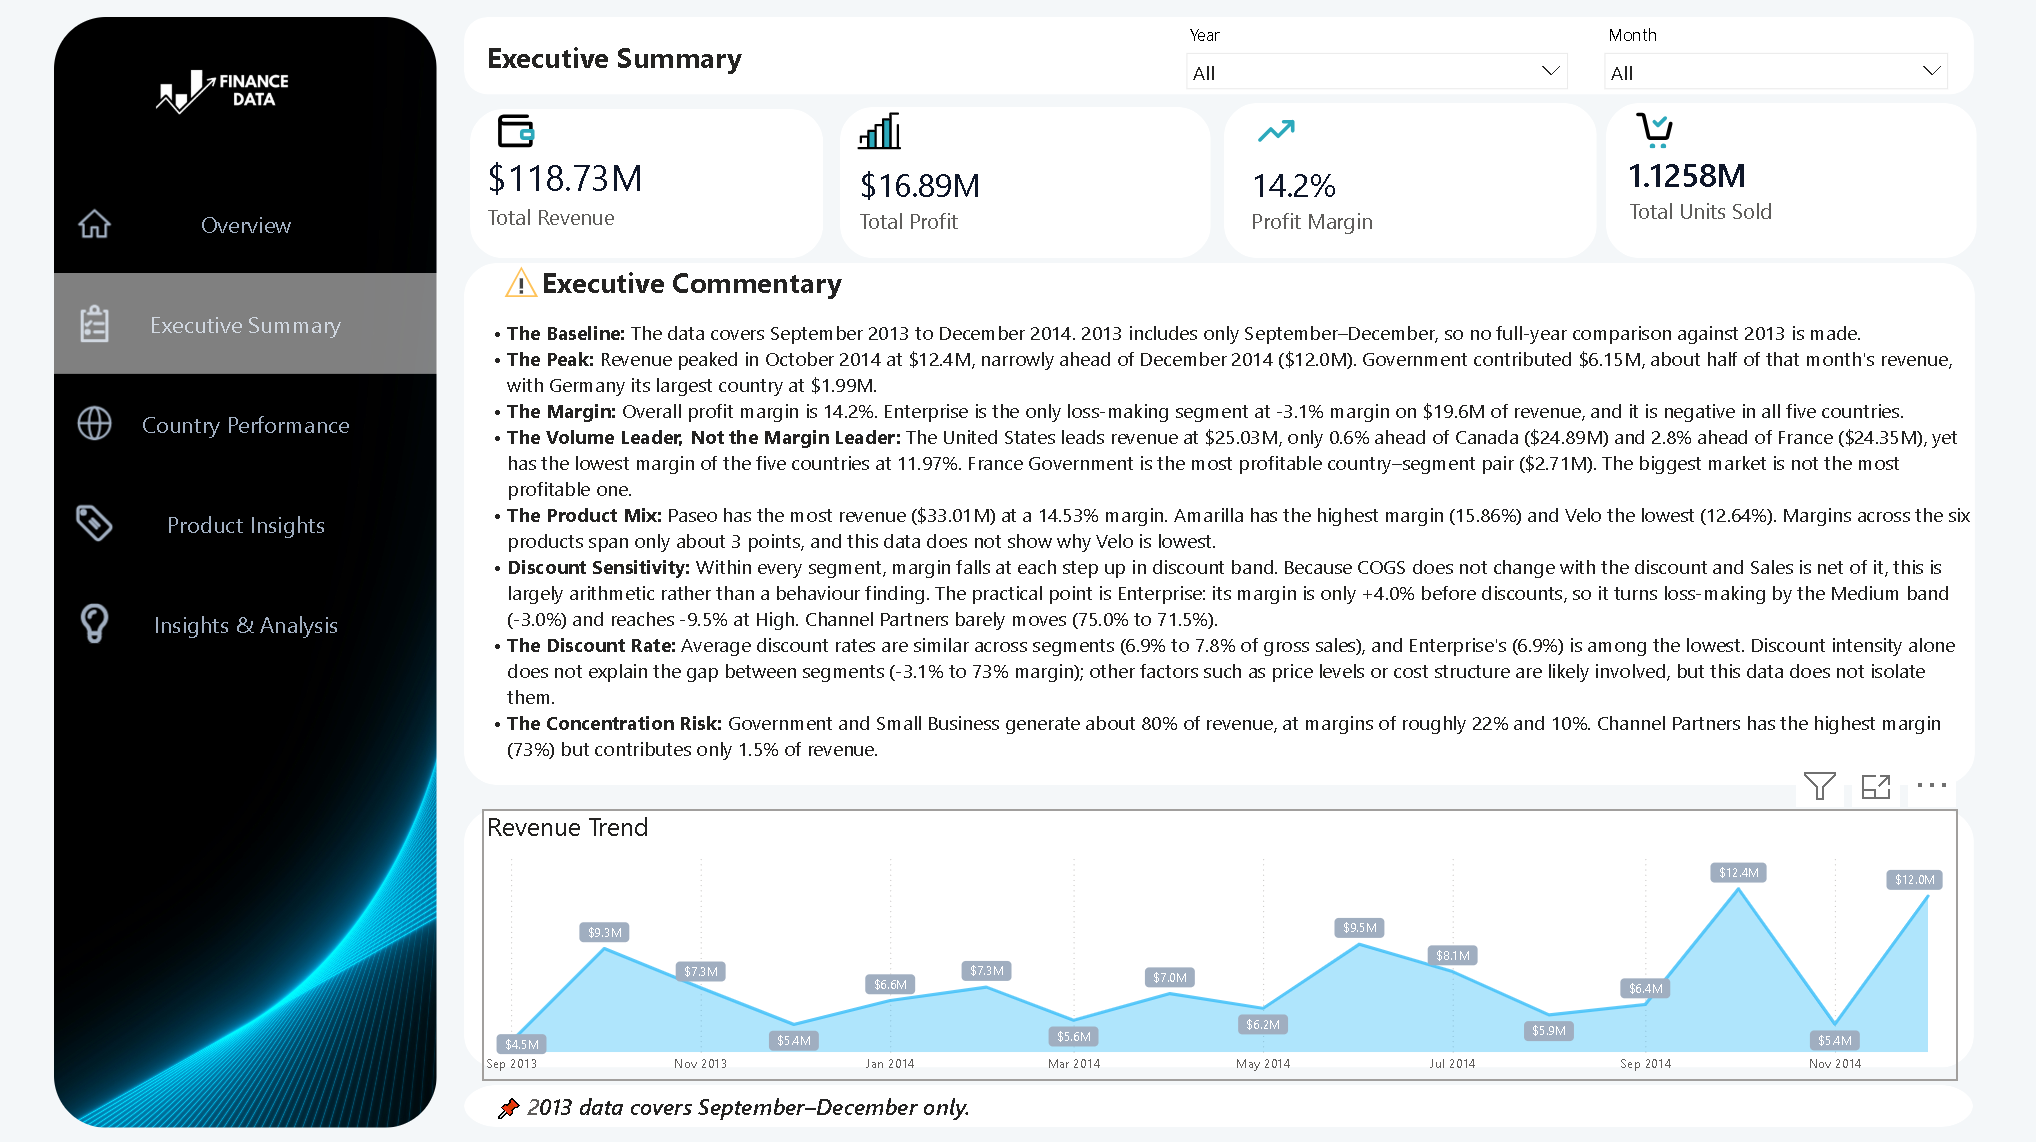

Layout of this report page (visuals, bound fields, positions):
{"tool":"powerbi","page":{"name":"Executive Summary","canvas":[1970,1150],"ordinal":1},"visuals":[{"type":"image","box":[52,18,368,1068],"z":0},{"type":"actionButton","box":[51.6,263.9,369,97],"z":1000},{"type":"actionButton","box":[52,359.1,369,97.2],"z":2000},{"type":"actionButton","box":[52,456,369,97],"z":3000},{"type":"image","box":[0,17.5,420,149.8],"z":4000},{"type":"shape","box":[446.4,17,1451.8,74.4],"z":5000},{"type":"textbox","box":[463.4,31.9,461.3,59.5],"z":6000},{"type":"shape","box":[1177.4,100,358.5,149.1],"z":7000},{"type":"shape","box":[452.8,105.7,339.6,143.4],"z":8000},{"type":"shape","box":[807.5,103.8,356.6,145.3],"z":9000},{"type":"image","box":[1194,106,66,42],"z":10000},{"type":"cardVisual","fields":{"Data":["Basemeasure.Profit Margin"]},"box":[1194,148,326,116],"z":11000},{"type":"cardVisual","fields":{"Data":["Basemeasure.Total Profit"]},"box":[818,148,326,116],"z":12000},{"type":"image","box":[812,106,68,42],"z":13000},{"type":"shape","box":[1543.4,100,356.6,149.1],"z":14000},{"type":"image","box":[1558,106,66,42],"z":15000},{"type":"cardVisual","fields":{"Data":["Basemeasure.Total Units Sold"]},"box":[1558,138,326,112],"z":16000},{"type":"image","box":[464,106,66,42],"z":17000},{"type":"cardVisual","fields":{"Data":["Basemeasure.Total Revenue"]},"box":[460,138,326,126],"z":18000},{"type":"slicer","fields":{"Values":["financials.Year"]},"box":[1130.9,17,386.9,74.4],"z":19000},{"type":"slicer","fields":{"Values":["financials.Month Name"]},"box":[1532.6,17,350.7,74.4],"z":20000},{"type":"shape","box":[445.3,254.7,1452.8,501.9],"z":21000},{"type":"textbox","box":[460.4,254.7,1439.6,522.6],"z":22000},{"type":"actionButton","box":[52.5,167.3,369,97.3],"z":23000},{"type":"shape","box":[446.4,1043.7,1451,40.4],"z":24000},{"type":"textbox","box":[468,1044,1414,40],"z":25000},{"type":"image","box":[473.6,254.7,56.6,35.8],"z":26000},{"type":"shape","box":[446.4,778,1451.8,248.7],"z":27000},{"type":"actionButton","box":[52,552,369.7,97.3],"z":28000},{"type":"areaChart","title":"Revenue Trend","fields":{"Category":["financials.Date.Variation.Date Hierarchy.Year"],"Y":["Basemeasure.Total Revenue"]},"box":[463.1,778.3,1420.5,262.7],"z":29000},{"type":"shape","title":"Executive_Summary_Active_Indicator","box":[52,263.6,369,97],"z":30000}]}

Visuals, with their boxes on the page's 1970x1150 design canvas (x1, y1, x2, y2). These are canvas units, not pixel positions in the 2036x1142 screenshot, which may show the page scaled, cropped or inside an application window:
image: locate(52, 18, 420, 1086)
actionButton: locate(52, 264, 421, 361)
actionButton: locate(52, 359, 421, 456)
actionButton: locate(52, 456, 421, 553)
image: locate(0, 18, 420, 167)
shape: locate(446, 17, 1898, 91)
textbox: locate(463, 32, 925, 91)
shape: locate(1177, 100, 1536, 249)
shape: locate(453, 106, 792, 249)
shape: locate(808, 104, 1164, 249)
image: locate(1194, 106, 1260, 148)
cardVisual - Basemeasure.Profit Margin: locate(1194, 148, 1520, 264)
cardVisual - Basemeasure.Total Profit: locate(818, 148, 1144, 264)
image: locate(812, 106, 880, 148)
shape: locate(1543, 100, 1900, 249)
image: locate(1558, 106, 1624, 148)
cardVisual - Basemeasure.Total Units Sold: locate(1558, 138, 1884, 250)
image: locate(464, 106, 530, 148)
cardVisual - Basemeasure.Total Revenue: locate(460, 138, 786, 264)
slicer - financials.Year: locate(1131, 17, 1518, 91)
slicer - financials.Month Name: locate(1533, 17, 1883, 91)
shape: locate(445, 255, 1898, 757)
textbox: locate(460, 255, 1900, 777)
actionButton: locate(52, 167, 422, 265)
shape: locate(446, 1044, 1897, 1084)
textbox: locate(468, 1044, 1882, 1084)
image: locate(474, 255, 530, 290)
shape: locate(446, 778, 1898, 1027)
actionButton: locate(52, 552, 422, 649)
"Revenue Trend" areaChart: locate(463, 778, 1884, 1041)
"Executive_Summary_Active_Indicator" shape: locate(52, 264, 421, 361)
